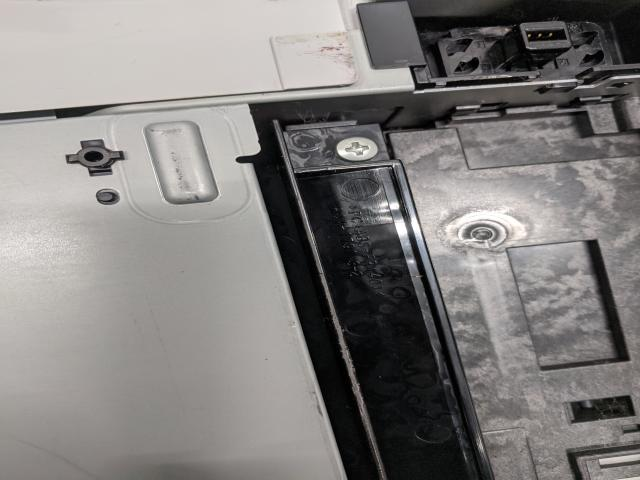CRS: (331, 136, 382, 162)
